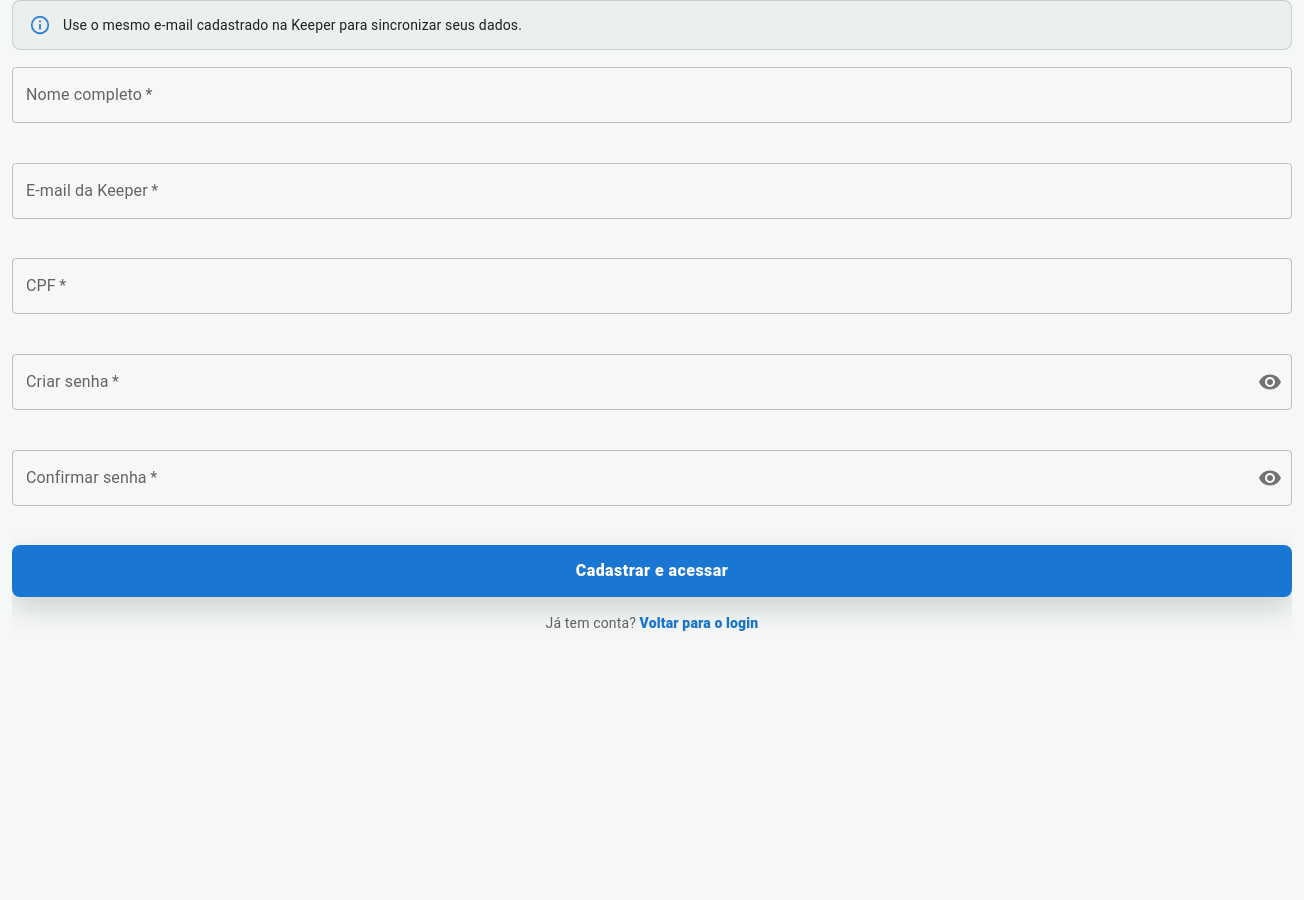
Test: Componente: RegisterForm › Deve aplicar máscara no CPF durante a digitação
The image size is (1304, 900).
Type "11122233344" into the field labelled "CPF *" at (652, 286), box x1=12 y1=258 x2=1292 y2=314
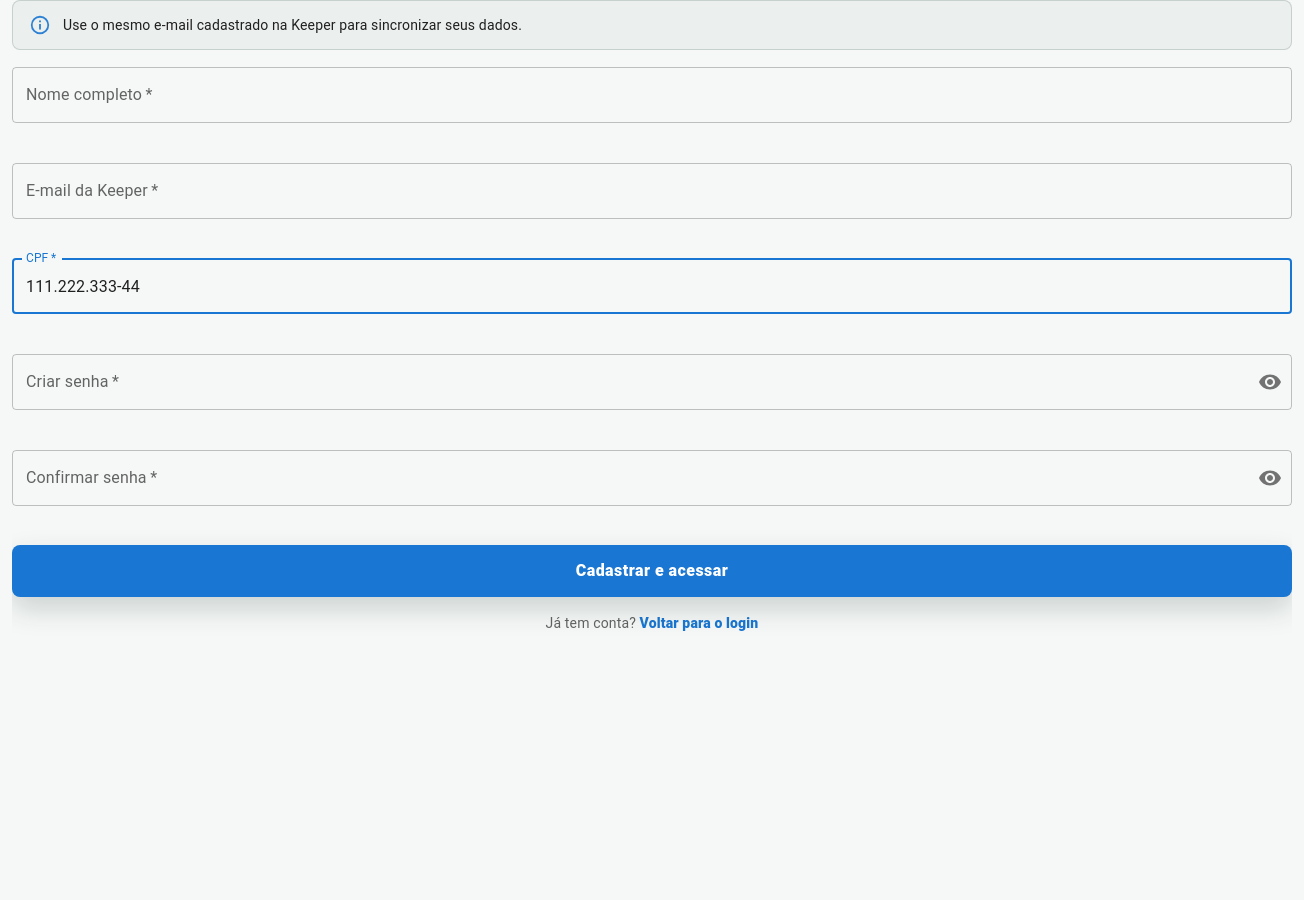
Check: the field labelled "CPF *" holds "111.222.333-44", box x1=12 y1=258 x2=1292 y2=314
